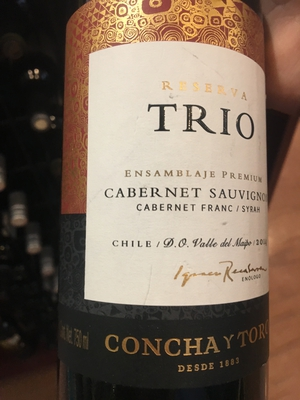trio cabernet sauvignon: (55, 9, 287, 400)
